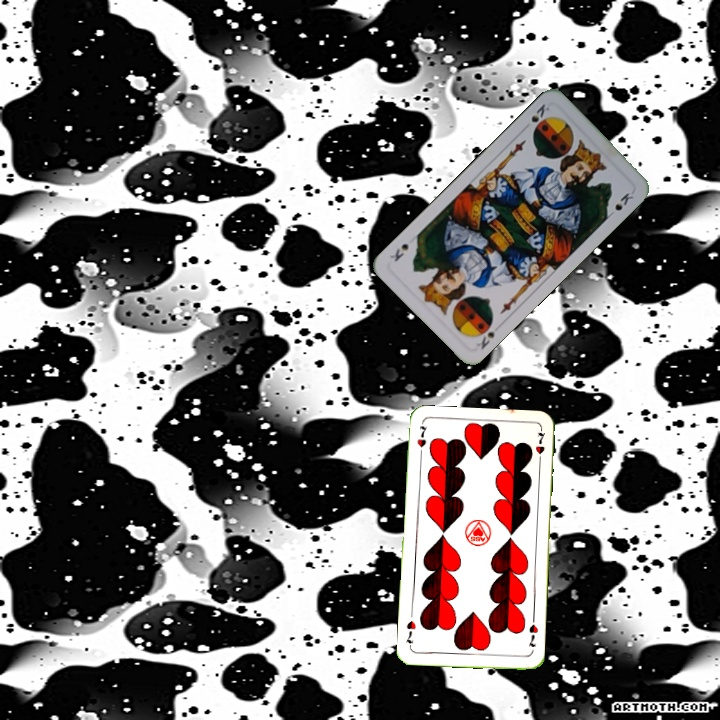H7: (413, 422, 429, 460), (525, 620, 540, 650)
SK: (472, 320, 504, 352), (527, 100, 552, 125)
